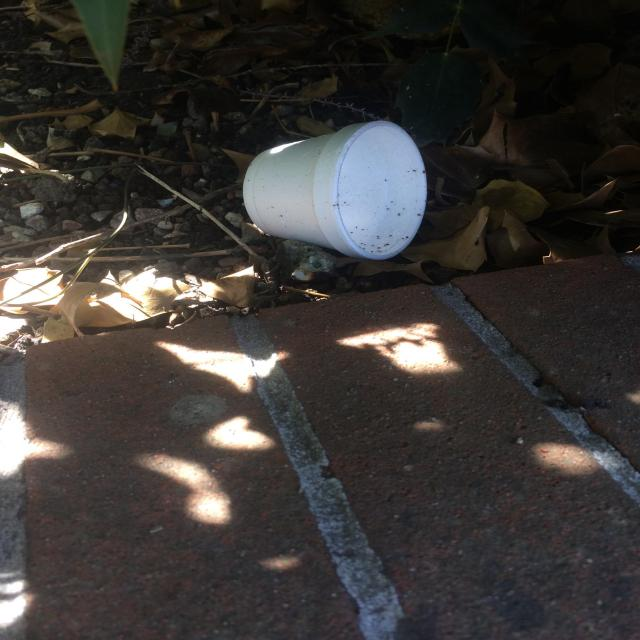Foam cup: (243, 121, 428, 260)
